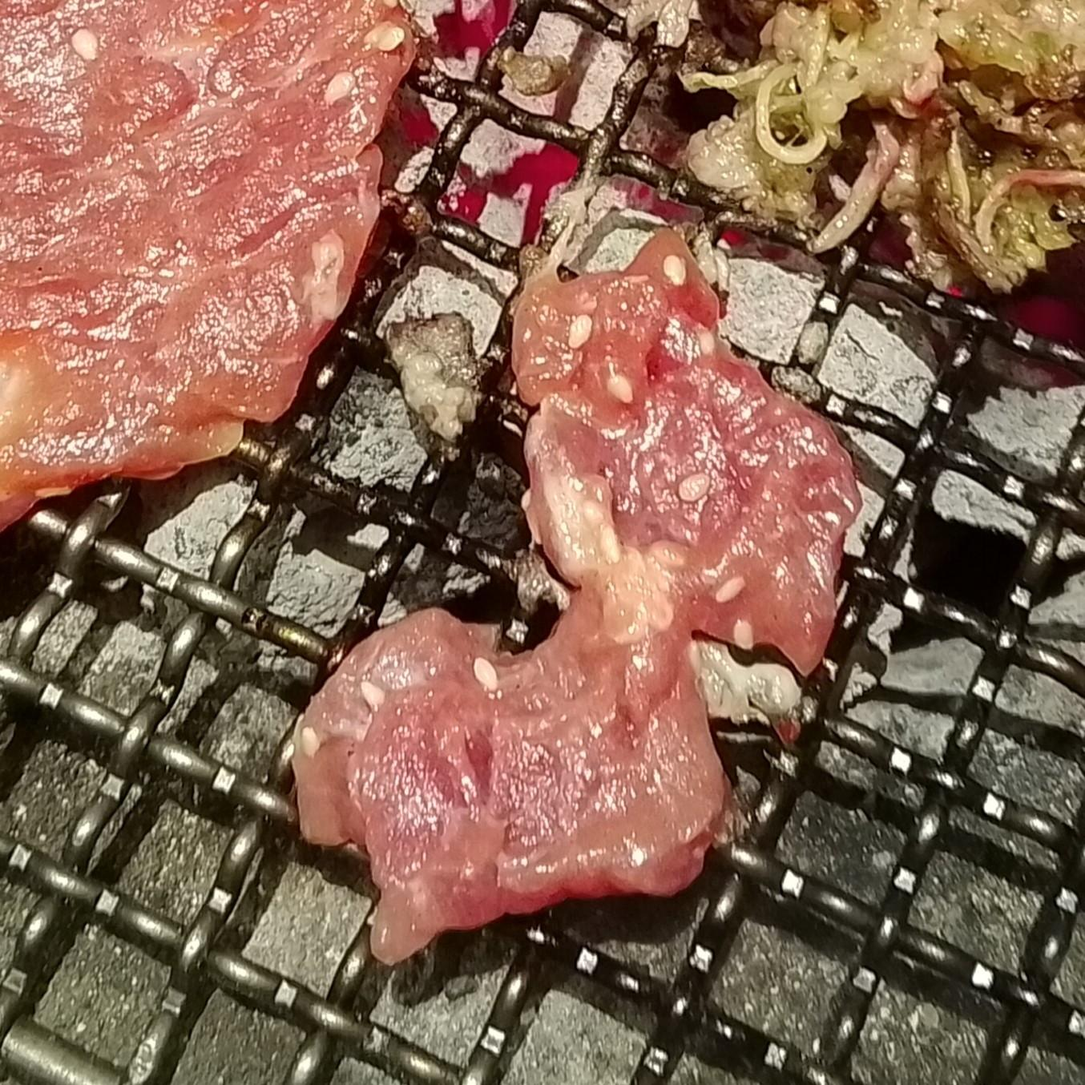Undercooked: (282, 220, 871, 970), (0, 0, 426, 530)
Well-Cooked: (680, 0, 1084, 292)
